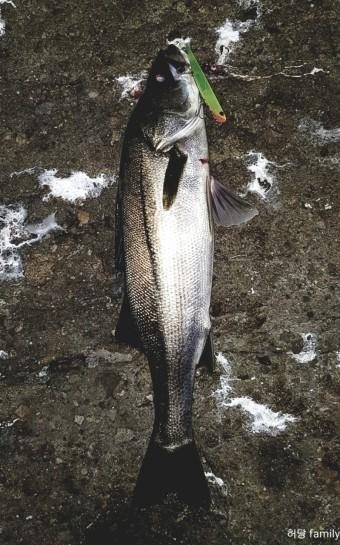fish: (116, 40, 256, 503)
